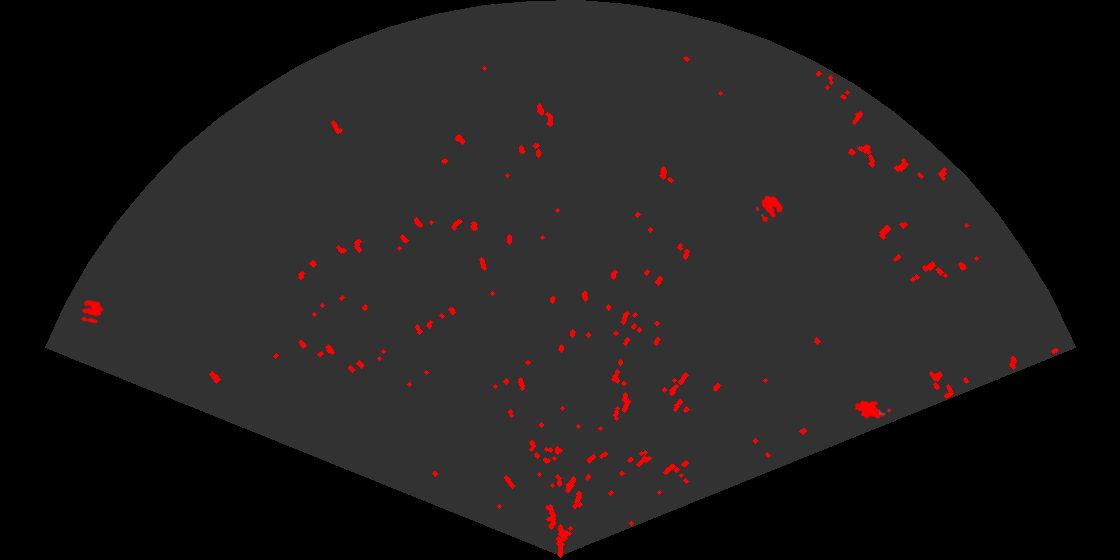AUV: (853, 399, 893, 420)
ball: (754, 194, 784, 224), (79, 298, 105, 325)
